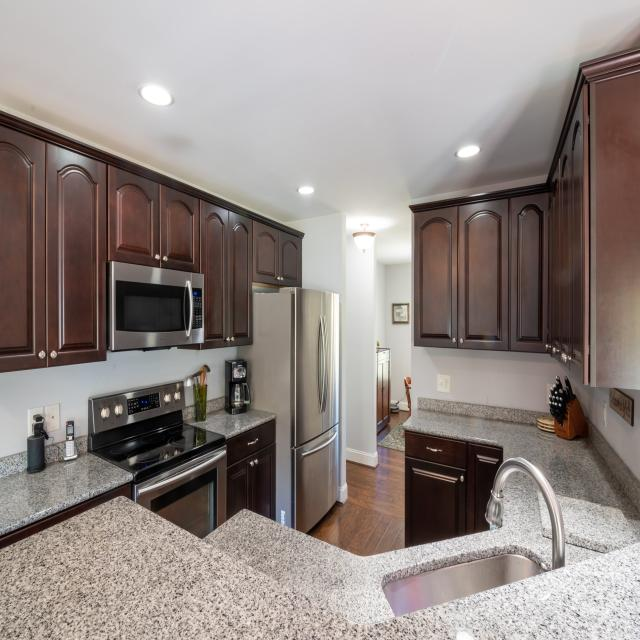Appliance_Fridge: (247, 288, 340, 534)
Appliance_Microwave: (106, 261, 205, 352)
Appliance_Oven: (89, 381, 227, 539)
Cabinet_Flat: (405, 432, 467, 468), (227, 421, 275, 466)
Cabinet_Raised_Panel: (0, 127, 302, 375), (412, 82, 591, 359), (408, 444, 503, 547), (227, 444, 277, 521)
Countertop_Granite: (204, 411, 640, 624), (0, 498, 640, 640), (0, 454, 134, 537), (188, 410, 277, 440)
